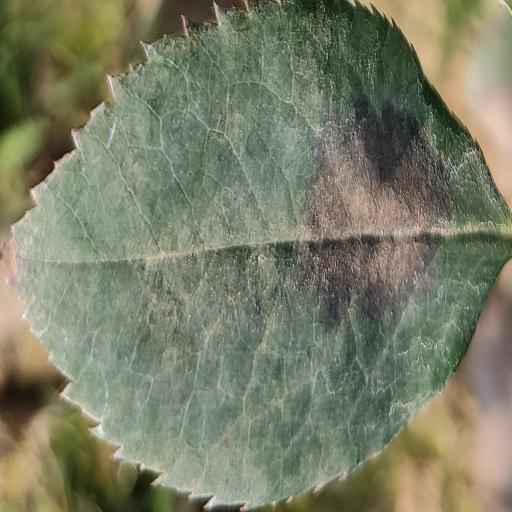black_spot: (15, 0, 512, 502)
